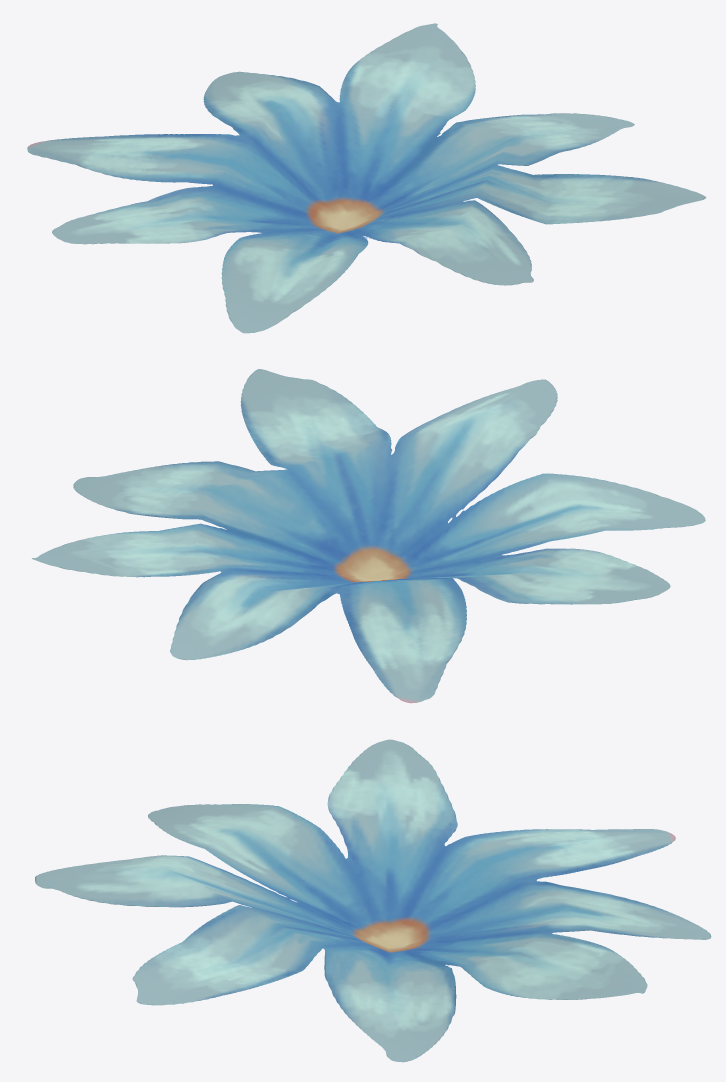
Rendered from F_Flower_04.fbx.
3 views of the same model, one above another, from view 1: azimuth 30°, elevation 25°; view 2: azimuth 150°, elevation 25°; view 3: azimuth 270°, elevation 25° (orthographic). The views are drawn at different scales.
Visible parts, largest first — view 1: F_Flower_04; view 2: F_Flower_04; view 3: F_Flower_04.
Part boxes in pixels (<box>): F_Flower_04: <box>27,23,706,333</box>; F_Flower_04: <box>32,369,705,703</box>; F_Flower_04: <box>35,739,711,1062</box>.
Bounding box in the file's own units: 142 × 18.06 × 141.
